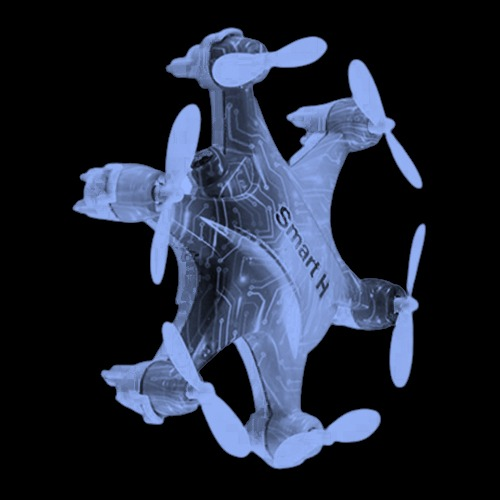drone: (72, 28, 426, 471)
